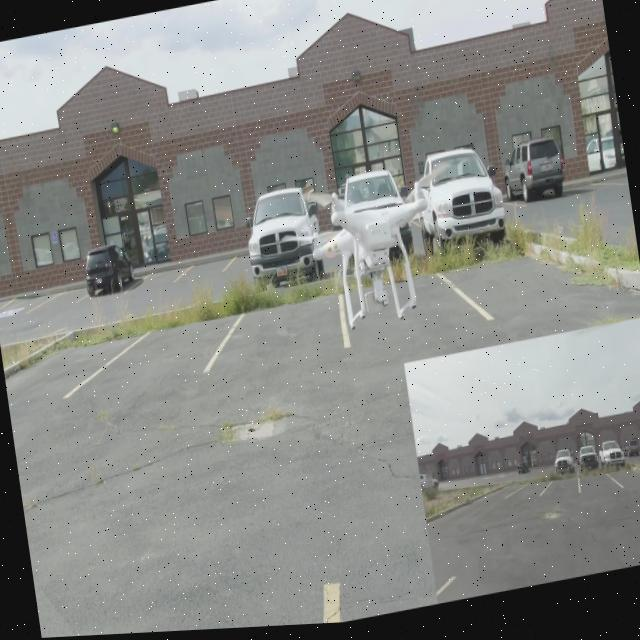drone: (294, 169, 452, 343)
